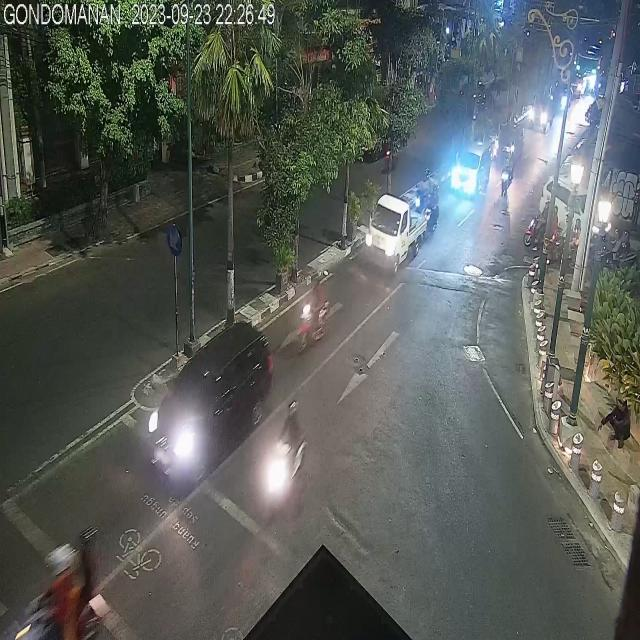car: (143, 322, 270, 492), (451, 141, 490, 195)
motorcycle: (8, 534, 108, 640), (264, 397, 308, 520), (297, 274, 331, 357), (500, 152, 514, 202)
truck: (364, 194, 434, 282)
